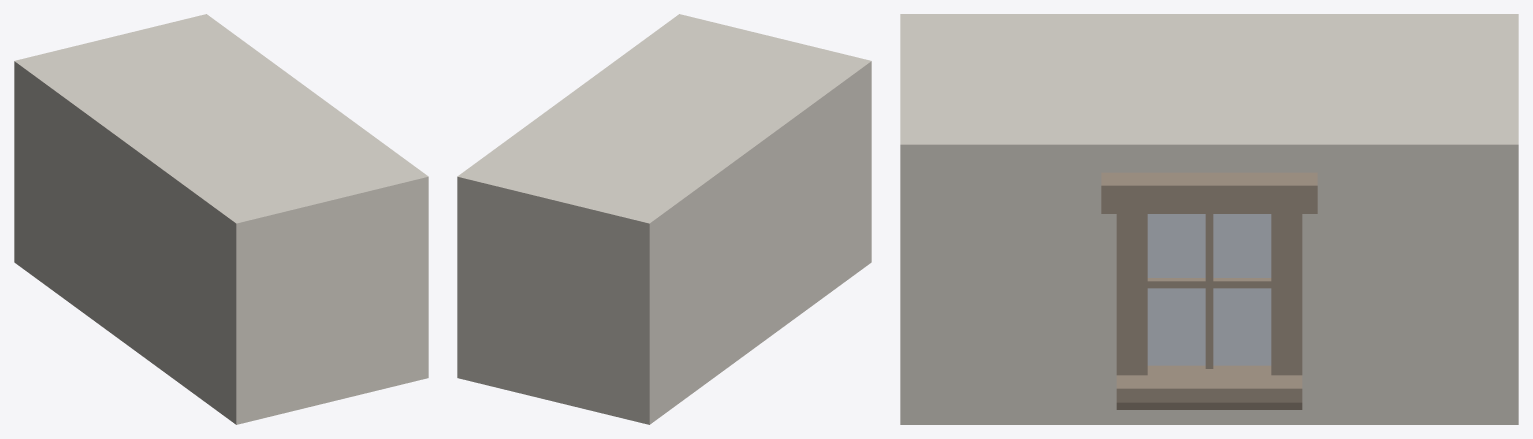
File: Stucco_Window_Single_Wide.glb
3 views of the same model, side by side, from view 1: azimuth 30°, elevation 25°; view 2: azimuth 150°, elevation 25°; view 3: azimuth 270°, elevation 25° (orthographic). The views are drawn at different scales.
Visible parts, largest first — view 1: object1; view 2: object1; view 3: object1, object3, object2.
Part boxes in pixels (box(x1,y1,x2,y2)): object1: box(14, 14, 428, 424); object1: box(457, 14, 871, 424); object1: box(900, 14, 1518, 424); object3: box(1101, 172, 1317, 409); object2: box(1147, 214, 1271, 368).
Size of the model in its own units: 1.15 by 1 by 2.
